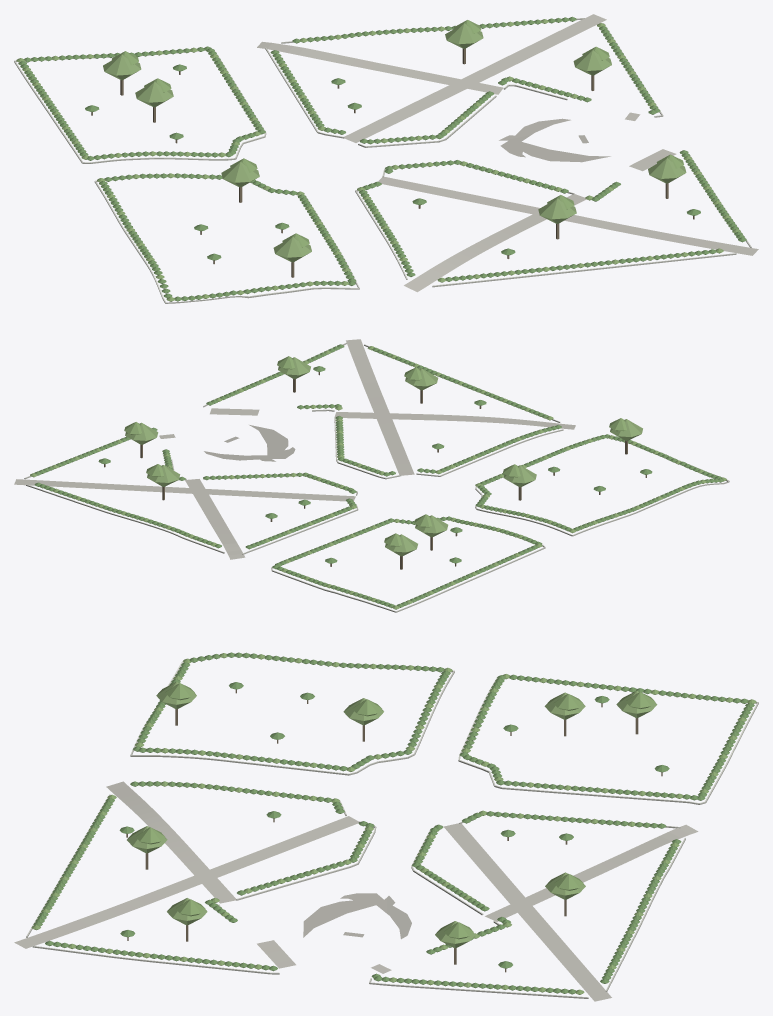
3 views of the same model, one above another, from view 1: azimuth 30°, elevation 25°; view 2: azimuth 150°, elevation 25°; view 3: azimuth 270°, elevation 25° (orthographic). The views are drawn at different scales.
Parts seen in each view (by area): view 1: plaza-planting__continuousGardenHedge (×2), plaza-planting__gardenDiagonalPaths, plaza-planting__gardenTreeCrowns (×2), plaza-planting__gardenCurbSides, plaza-planting__gardenCurbTop, plaza-planting__plazaStrayGrassCover, plaza-planting__clippedGardenShrubs; view 2: plaza-planting__continuousGardenHedge (×2), plaza-planting__gardenDiagonalPaths, plaza-planting__gardenTreeCrowns (×2), plaza-planting__gardenCurbSides, plaza-planting__gardenCurbTop, plaza-planting__plazaStrayGrassCover, plaza-planting__clippedGardenShrubs; view 3: plaza-planting__continuousGardenHedge (×2), plaza-planting__gardenDiagonalPaths, plaza-planting__gardenTreeCrowns (×2), plaza-planting__gardenCurbSides, plaza-planting__gardenCurbTop, plaza-planting__plazaStrayGrassCover, plaza-planting__clippedGardenShrubs.
Boxes of the visible parts, box(x1,y1,x2,y2) form: plaza-planting__continuousGardenHedge (×2): box(16, 16, 746, 301); plaza-planting__gardenDiagonalPaths: box(257, 14, 758, 292); plaza-planting__gardenTreeCrowns (×2): box(103, 20, 686, 262); plaza-planting__gardenCurbSides: box(14, 18, 751, 303); plaza-planting__gardenCurbTop: box(14, 18, 751, 302); plaza-planting__plazaStrayGrassCover: box(499, 118, 610, 162); plaza-planting__clippedGardenShrubs: box(85, 64, 700, 260); plaza-planting__continuousGardenHedge (×2): box(30, 344, 726, 609); plaza-planting__gardenDiagonalPaths: box(14, 339, 575, 559); plaza-planting__gardenTreeCrowns (×2): box(124, 356, 642, 556); plaza-planting__gardenCurbSides: box(24, 343, 729, 612); plaza-planting__gardenCurbTop: box(25, 342, 729, 611); plaza-planting__plazaStrayGrassCover: box(204, 425, 295, 461); plaza-planting__clippedGardenShrubs: box(98, 366, 652, 563); plaza-planting__continuousGardenHedge (×2): box(31, 652, 756, 994); plaza-planting__gardenDiagonalPaths: box(14, 781, 698, 1001); plaza-planting__gardenTreeCrowns (×2): box(127, 681, 657, 948); plaza-planting__gardenCurbSides: box(26, 662, 758, 998); plaza-planting__gardenCurbTop: box(26, 659, 758, 997); plaza-planting__plazaStrayGrassCover: box(303, 893, 411, 939); plaza-planting__clippedGardenShrubs: box(119, 682, 669, 968).
Size of the model in its own units: 95.11 by 10.23 by 87.01.
